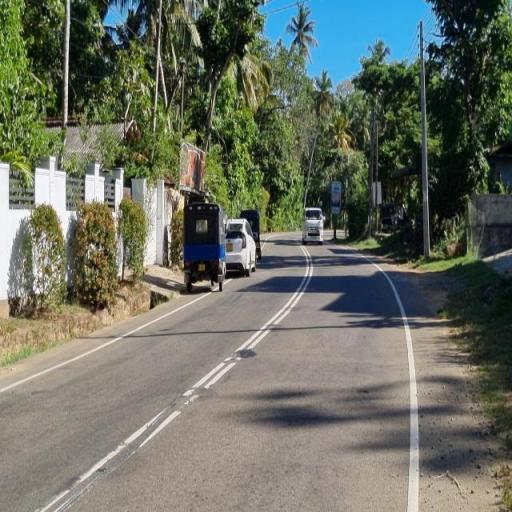double_white_line: (179, 246, 313, 406)
